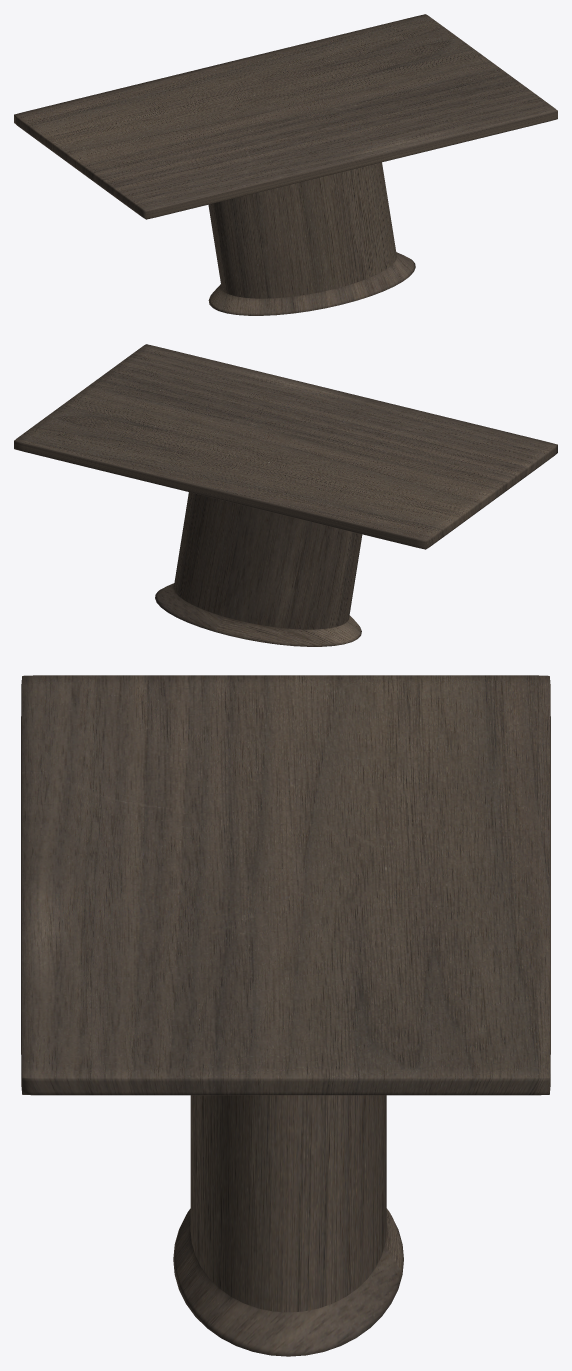
File: comedor.fbx
3 views of the same model, one above another, from view 1: azimuth 30°, elevation 25°; view 2: azimuth 150°, elevation 25°; view 3: azimuth 270°, elevation 25° (orthographic). The views are drawn at different scales.
Parts seen in each view (by area): view 1: mesajantar; view 2: mesajantar; view 3: mesajantar.
Boxes of the visible parts, x1=… form: mesajantar: x1=14, y1=14, x2=557, y2=315; mesajantar: x1=14, y1=344, x2=557, y2=646; mesajantar: x1=21, y1=675, x2=550, y2=1356.
Size of the model in its own units: 186 by 77.3 by 103.
Materials: 1 (1 with a texture image).
